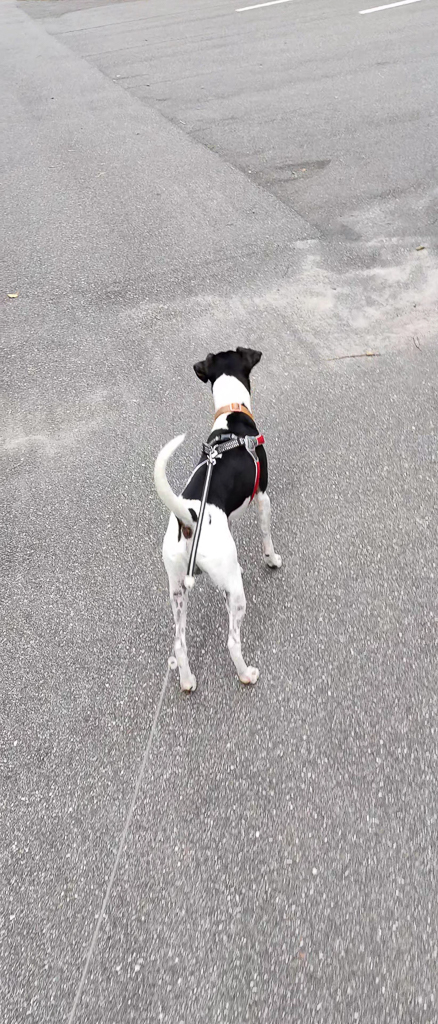Dog: (135, 336, 307, 707)
